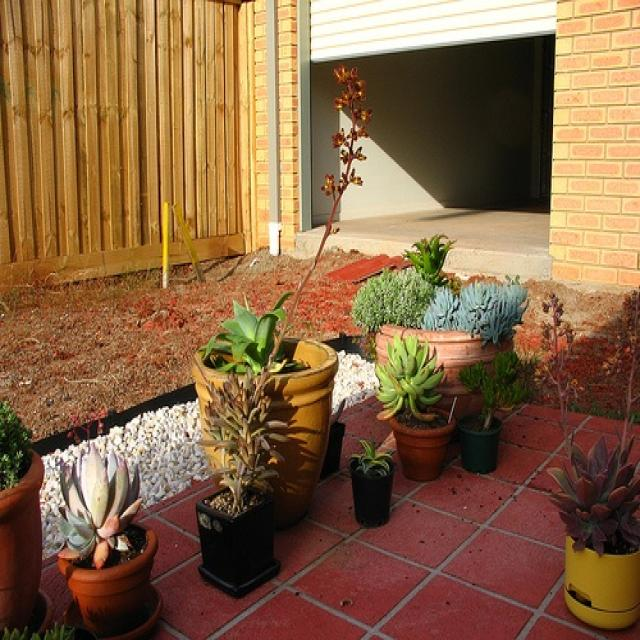pottedplant: (193, 68, 375, 525), (542, 289, 640, 631), (350, 235, 531, 419), (58, 443, 164, 639), (198, 375, 284, 600), (2, 402, 55, 639), (376, 329, 457, 482), (459, 351, 539, 474), (352, 440, 395, 528)
